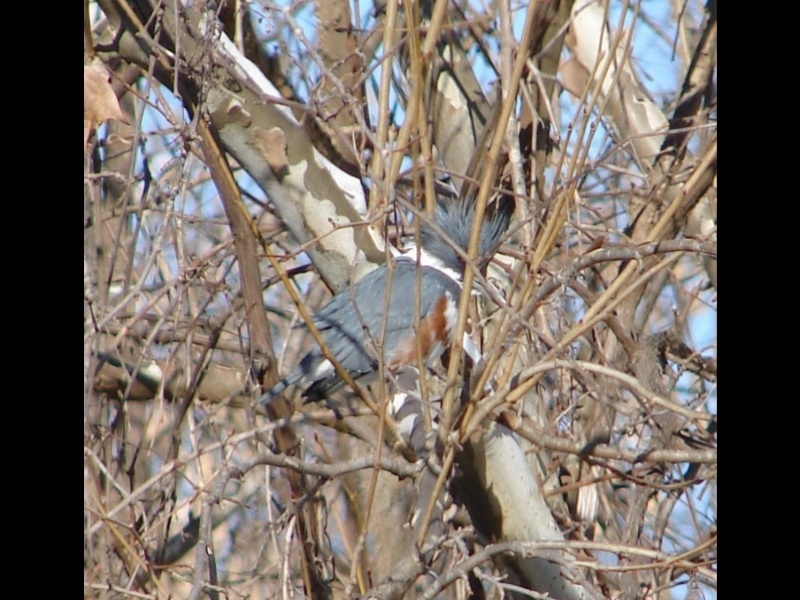kingfisher: (261, 207, 514, 415)
